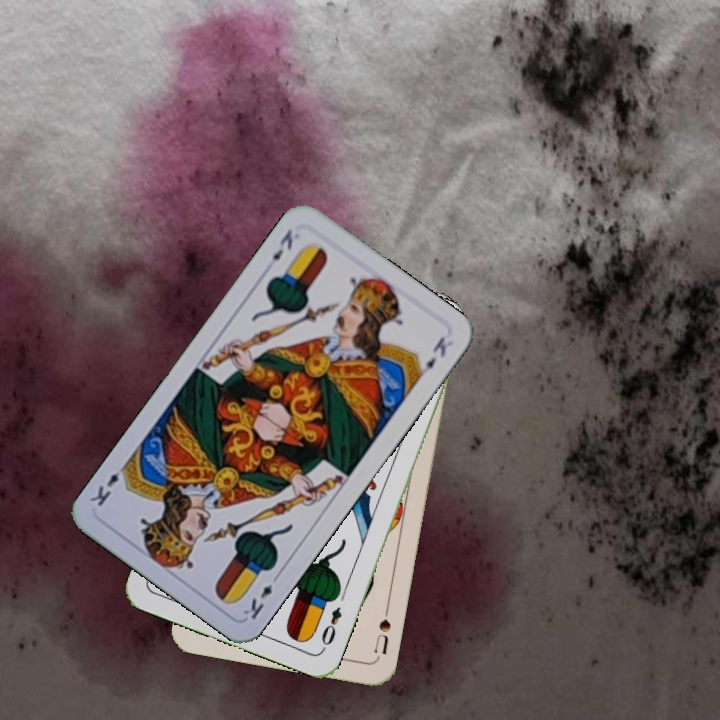EK: (239, 569, 283, 622), (268, 225, 296, 264)
EO: (317, 602, 345, 653)
SU: (369, 602, 394, 657)
